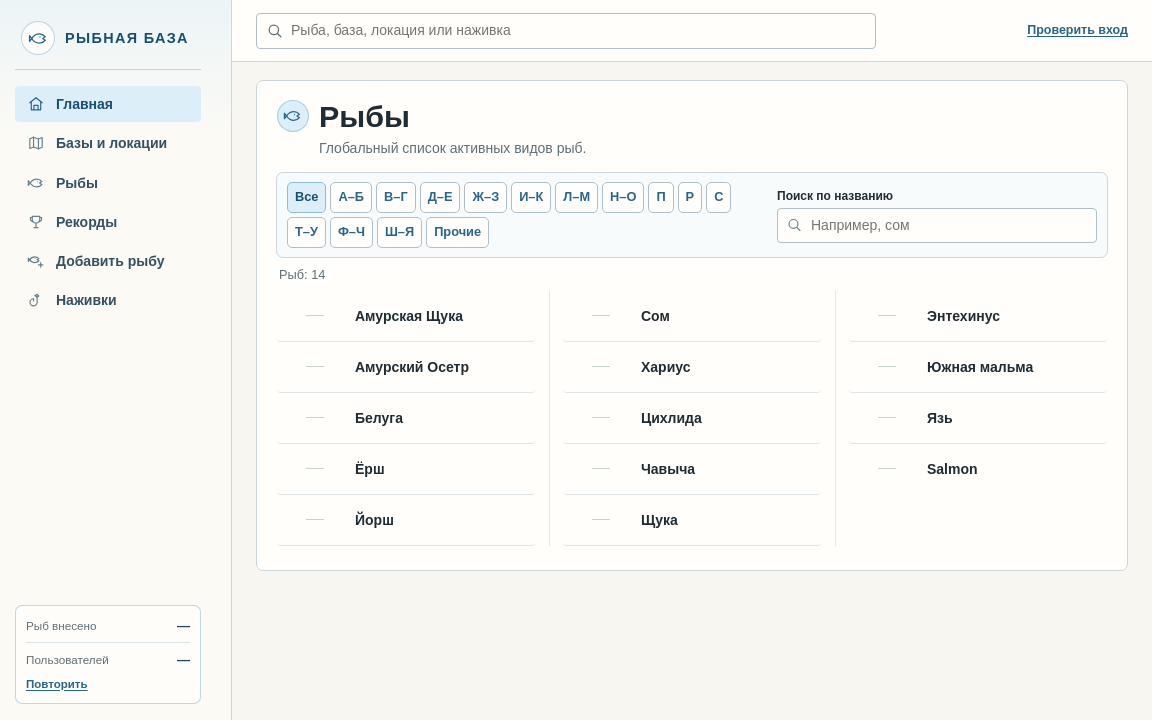
it: FishPage alphabet navigation › searches globally, explains scope, and restores the selected group when cleared
The width and height of the screenshot is (1152, 720).
Click the button "С": (719, 198) x1=706 y1=182 x2=731 y2=213
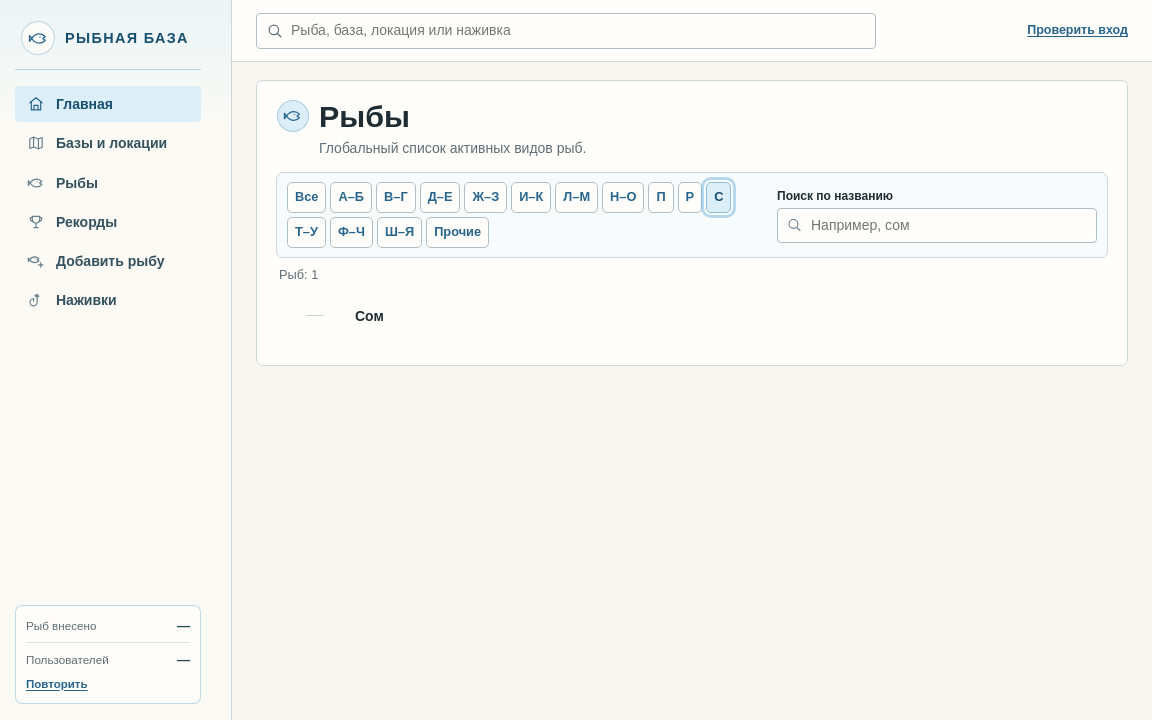
In the search field labelled "Поиск по названию": (937, 225) x1=777 y1=208 x2=1097 y2=243, type "  АМУР  "
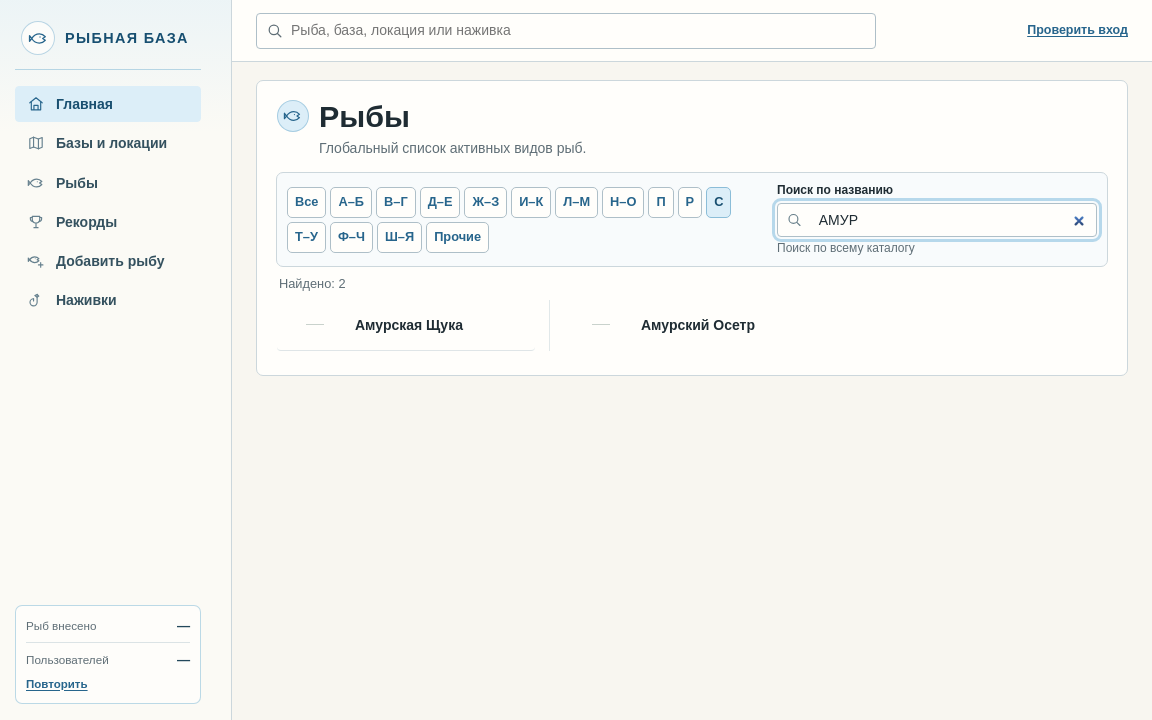
Expected: the text "Поиск по всему каталогу" is shown, x1=777 y1=241 x2=915 y2=255
Expected: the text "Найдено: 2" is shown, x1=279 y1=276 x2=346 y2=291
Clear the search field labelled "Поиск по названию": (937, 220) x1=777 y1=203 x2=1097 y2=237
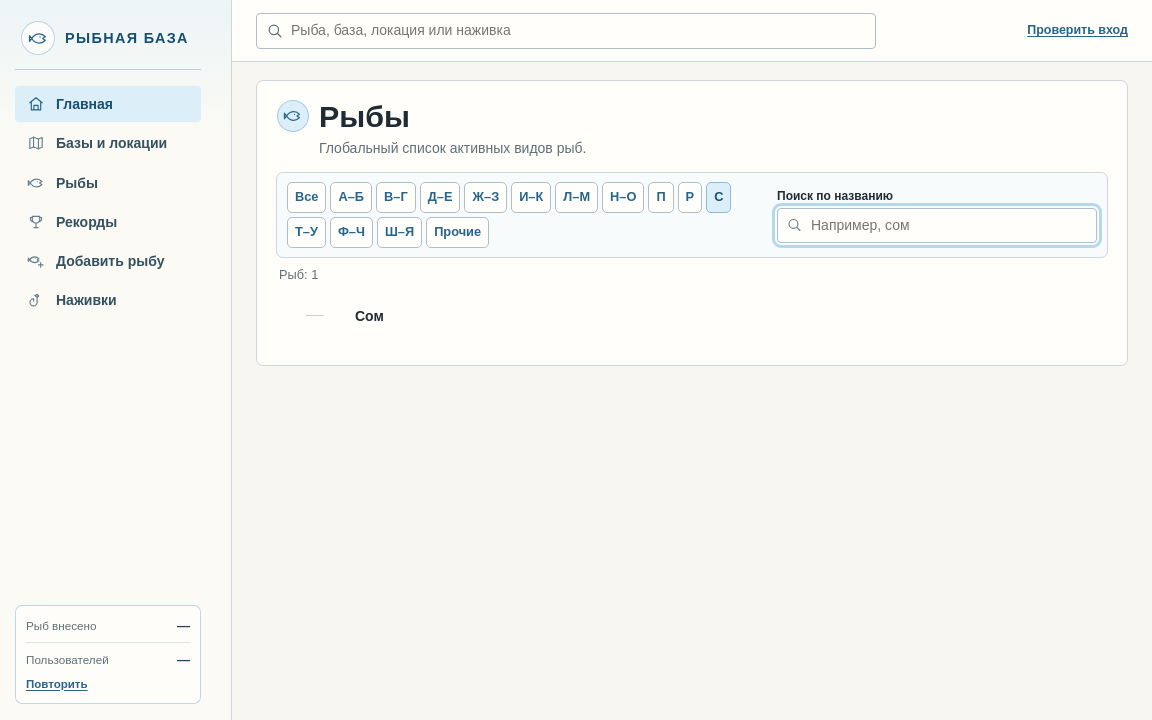
Expected: the text "Рыб: 1" is shown, x1=279 y1=267 x2=318 y2=282
Expected: the text "Поиск по всему каталогу" is gone
